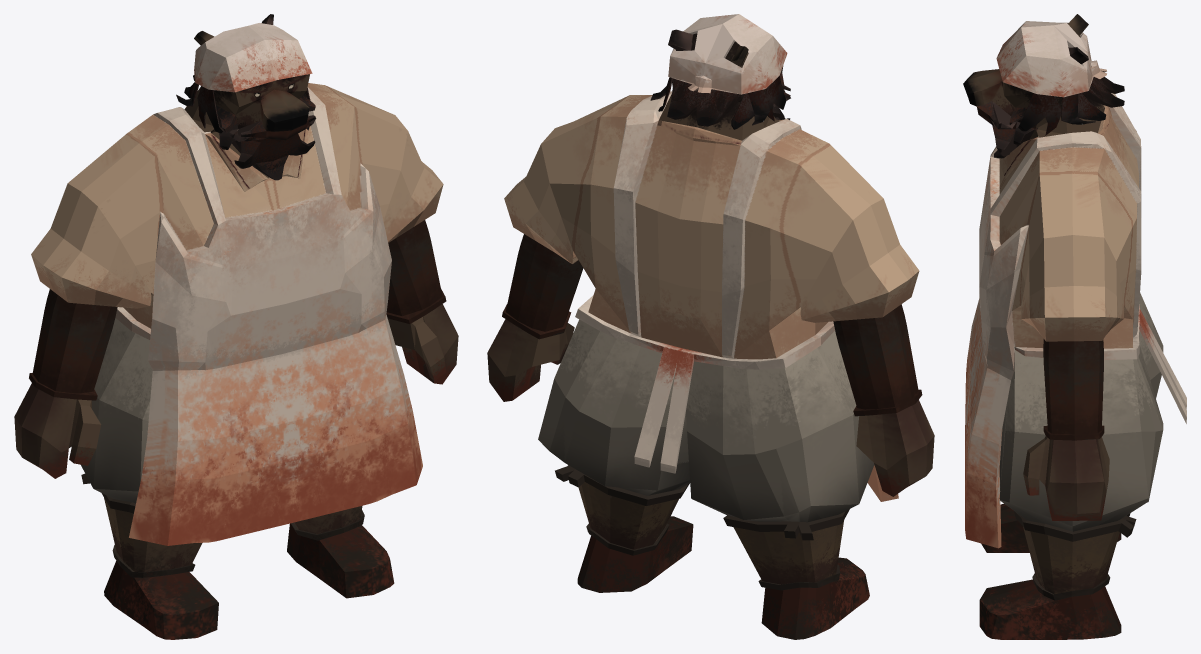
The model's file is carnicero.fbx.
3 renders of one model, left to right at view 1: azimuth 30°, elevation 25°; view 2: azimuth 150°, elevation 25°; view 3: azimuth 270°, elevation 25°, orthographic.
Parts seen in each view (by area): view 1: Cube.002; view 2: Cube.002; view 3: Cube.002.
Boxes of the visible parts, x1,y1,x2,y2 form: Cube.002: [14, 14, 458, 639]; Cube.002: [487, 14, 934, 639]; Cube.002: [963, 14, 1186, 639].
Size of the model in its own units: 445 by 558 by 203.
Materials: 1 (1 with a texture image).
